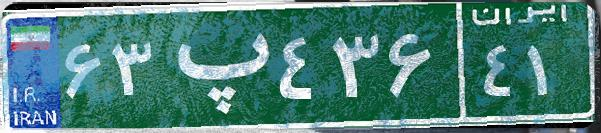1: (525, 38, 570, 115)
3: (330, 28, 385, 110), (110, 28, 158, 105)
4: (273, 28, 330, 110), (475, 38, 525, 113)
6: (385, 28, 445, 110), (57, 26, 110, 107)
پ: (158, 15, 273, 115)
